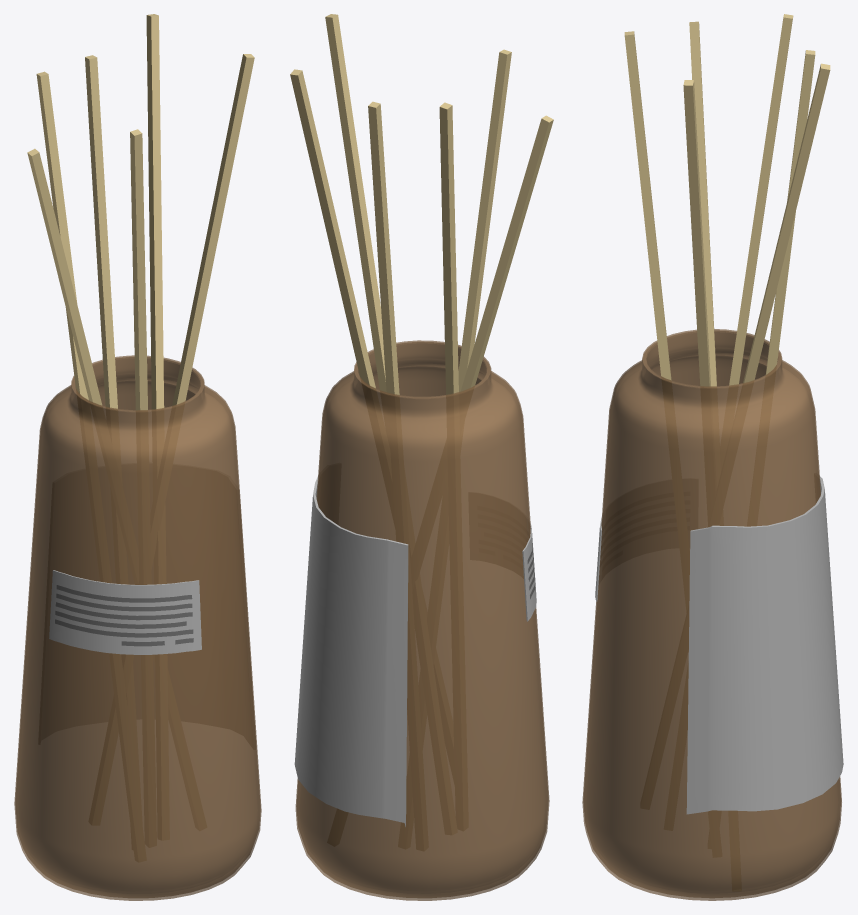
Rendered from Aroma.fbx.
3 renders of one model, left to right at view 1: azimuth 30°, elevation 25°; view 2: azimuth 150°, elevation 25°; view 3: azimuth 270°, elevation 25°, orthographic. The views are drawn at different scales.
Visible parts, largest first — view 1: 円柱, 平面, 立方体.003, 立方体.001, 立方体, 立方体.004, 立方体.005, 立方体.002; view 2: 円柱, 平面.001, 立方体.001, 立方体.003, 立方体.004, 立方体.002, 立方体, 立方体.005, 平面; view 3: 円柱, 平面.001, 立方体.002, 立方体.004, 立方体.003, 立方体.001, 立方体.005, 立方体.
Part boxes in pixels (x1,y1,x2,y2): 円柱: [14, 355, 261, 900]; 平面: [49, 570, 201, 654]; 立方体.003: [146, 14, 164, 410]; 立方体.001: [172, 54, 254, 406]; 立方体: [85, 55, 117, 409]; 立方体.004: [130, 129, 147, 410]; 立方体.005: [27, 148, 102, 405]; 立方体.002: [36, 71, 88, 400]; 円柱: [295, 340, 549, 900]; 平面.001: [294, 475, 408, 826]; 立方体.001: [325, 14, 386, 392]; 立方体.003: [290, 69, 375, 388]; 立方体.004: [458, 49, 511, 392]; 立方体.002: [439, 102, 458, 395]; 立方体: [368, 101, 399, 395]; 立方体.005: [460, 115, 553, 391]; 平面: [522, 519, 536, 621]; 円柱: [582, 329, 841, 900]; 平面.001: [686, 476, 843, 814]; 立方体.002: [729, 14, 793, 386]; 立方体.004: [624, 31, 671, 380]; 立方体.003: [743, 63, 830, 383]; 立方体.001: [683, 80, 710, 387]; 立方体.005: [689, 21, 716, 387]; 立方体: [765, 50, 815, 374].
Bounding box in the file's own units: 208 × 697 × 199.
